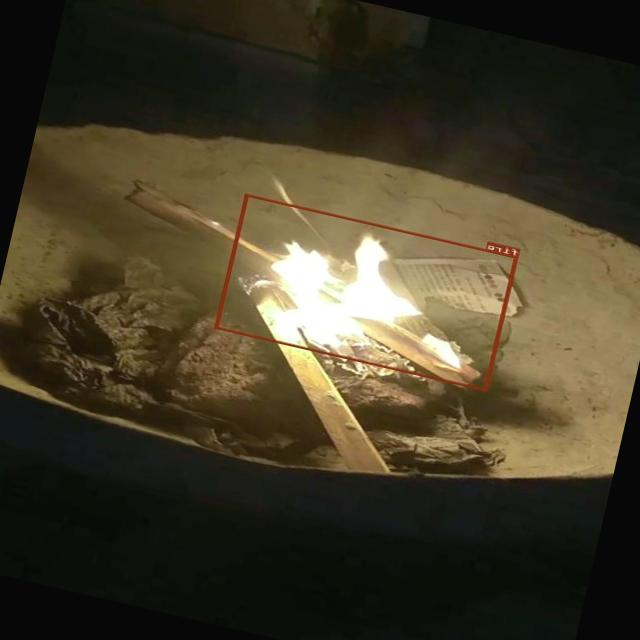fire: (214, 193, 518, 390)
